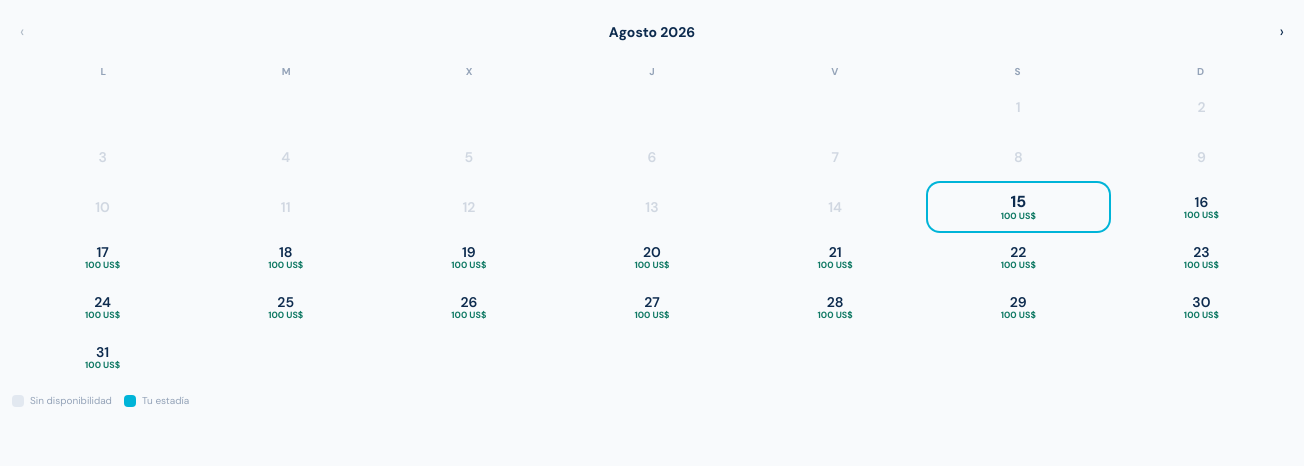
Test: CalendarView (widget) › seleccionar 18 → 21 escribe el store y cuenta 3 noches (no 4)
This screenshot has width=1304, height=466.
Click the button "18 100 US$": click(286, 257) [195,233,376,281]
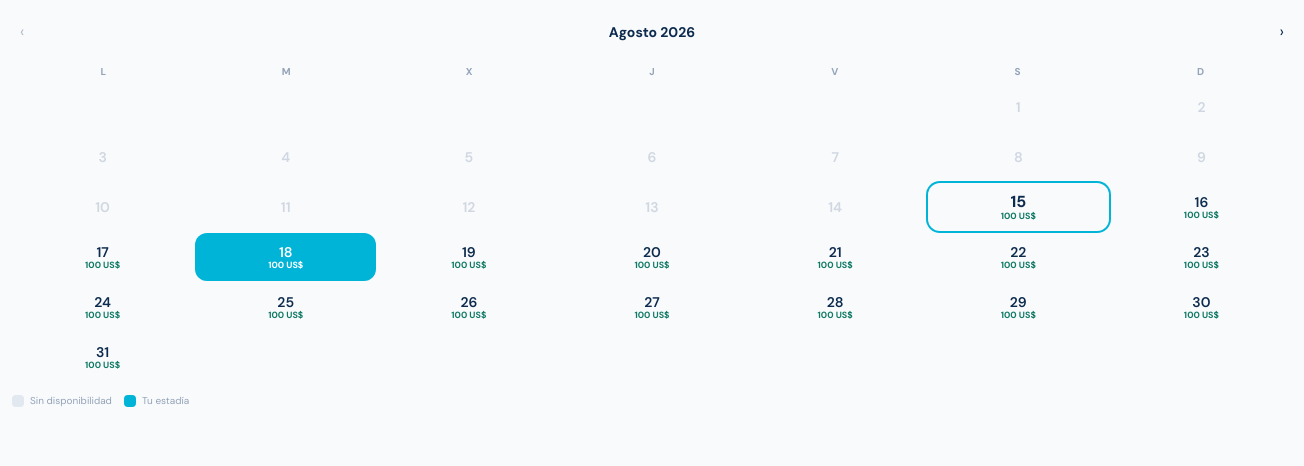
Click the button "21 100 US$": click(835, 257) [745,233,926,281]
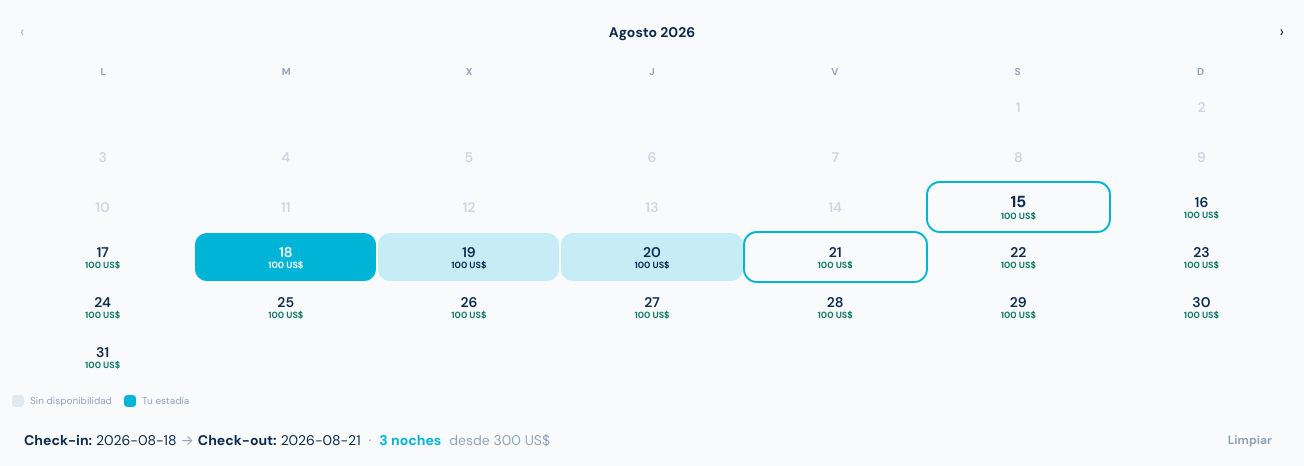
expect the text "3 noches" is shown: met, box [379,431,441,449]
expect the text "desde 300 US$" is shown: met, box [449,431,550,449]
